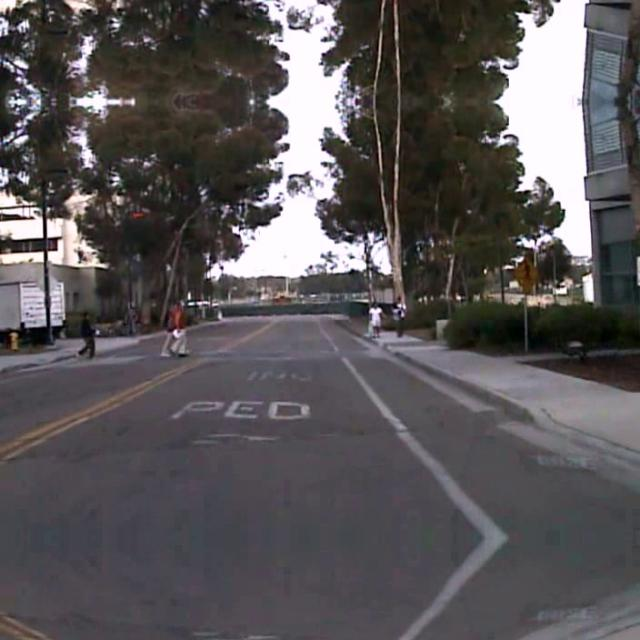pedestrianCrossing: (512, 252, 540, 288)
